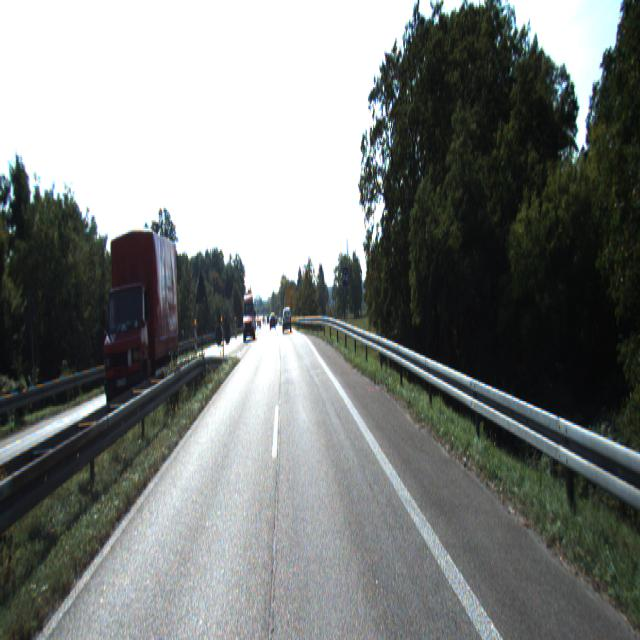Car: (101, 221, 183, 416), (242, 293, 256, 344), (284, 310, 292, 334)
